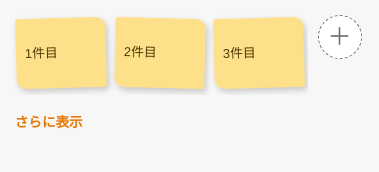
Test: MemoList › 2行目以降のメモを折りたたみ、追加ボタンは常に表示する
This screenshot has width=379, height=172.
Expected: the button with class "add-memo" is shown, [318, 15, 362, 59]
Click the button with class "memo-expand" at (49,121), box [12, 106, 85, 136]
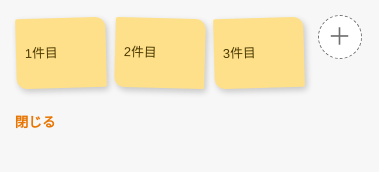
Expected: the button with class "memo-expand" reads "閉じる", [12, 106, 58, 136]
